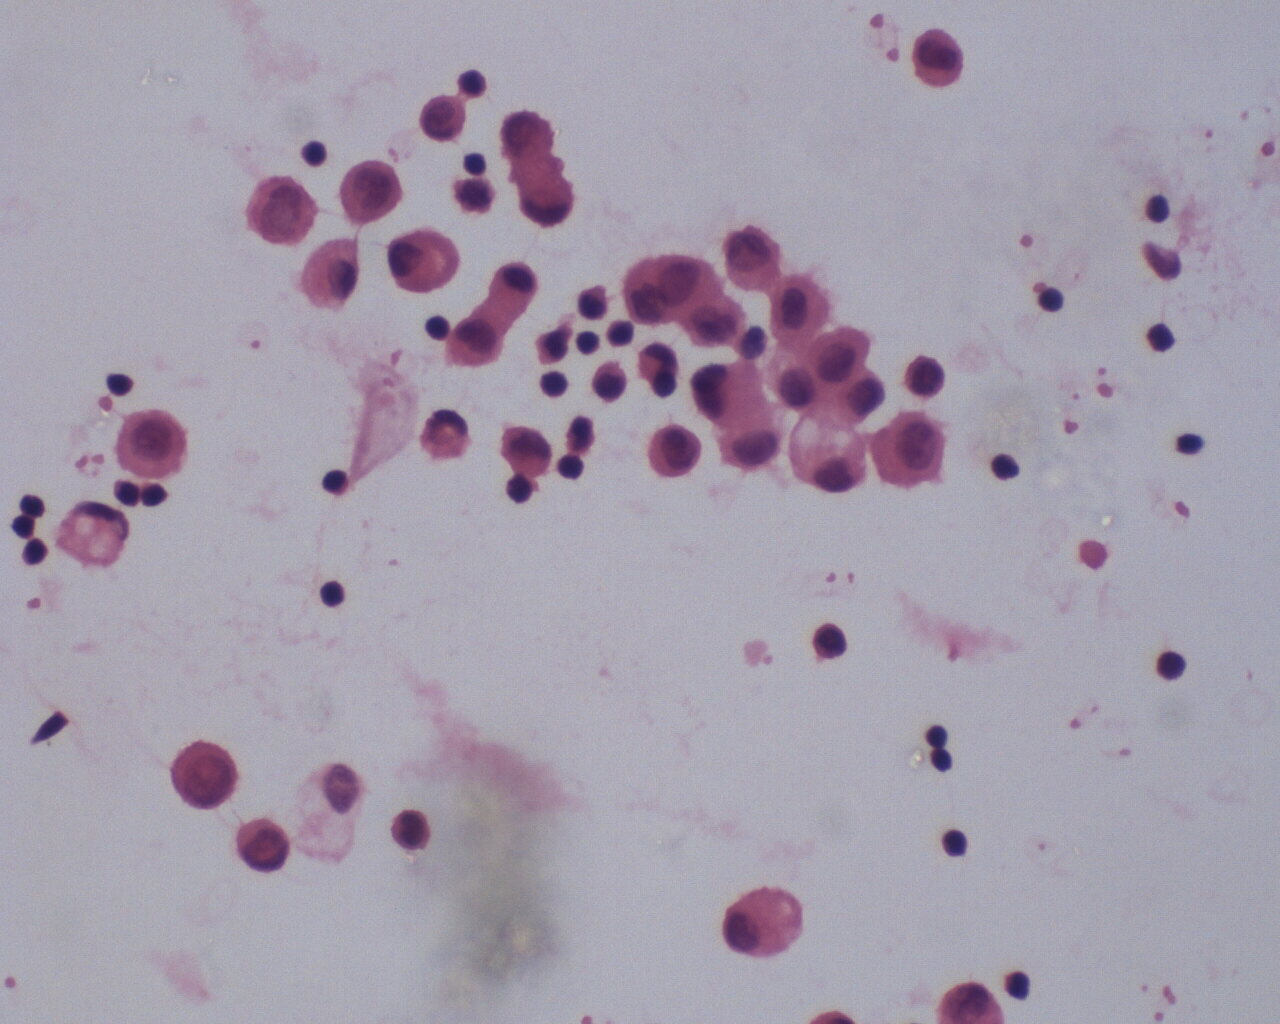ab: (241, 170, 322, 245), (166, 738, 238, 812), (336, 158, 404, 228), (234, 816, 290, 875), (417, 94, 466, 146)
histo: (719, 884, 815, 962), (787, 411, 869, 494), (53, 499, 131, 571)
lymph: (1151, 643, 1193, 689), (316, 576, 354, 618), (988, 447, 1028, 487), (939, 824, 977, 865), (1145, 315, 1178, 357), (1141, 188, 1176, 223), (1033, 282, 1068, 316)
meso: (870, 409, 955, 493), (111, 406, 195, 479), (388, 219, 460, 297), (765, 275, 835, 352), (809, 322, 877, 397), (721, 225, 789, 290), (647, 425, 704, 478)
